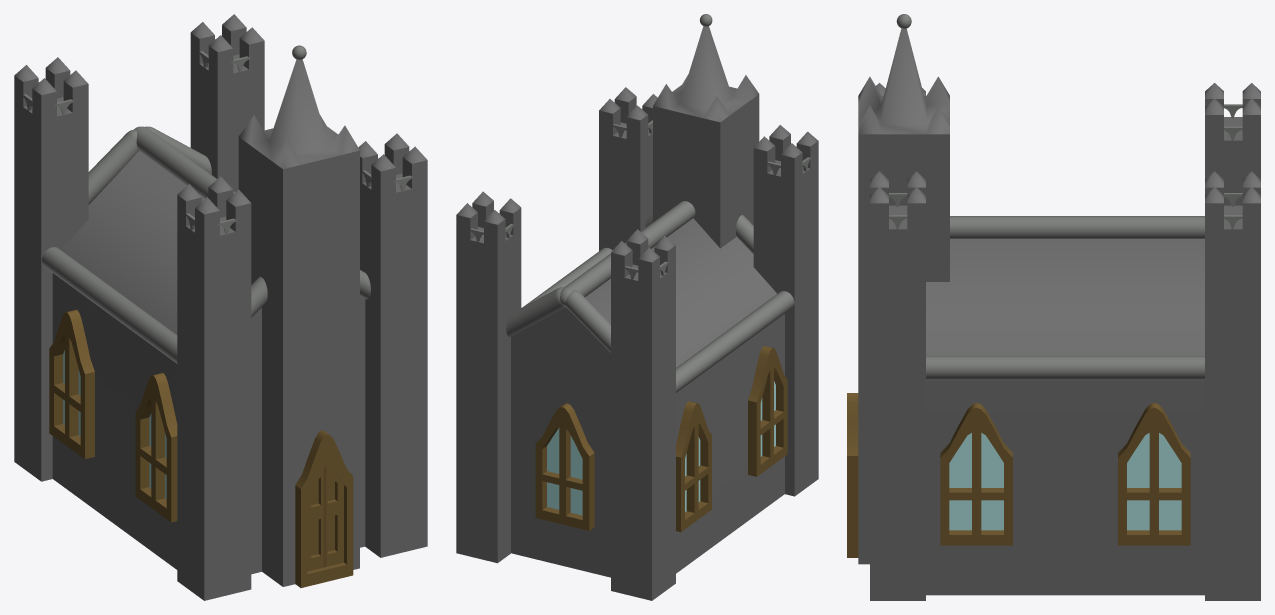
Rendered from Cathedral.fbx.
The picture shows the model from 3 angles, left to right: view 1: azimuth 30°, elevation 25°; view 2: azimuth 150°, elevation 25°; view 3: azimuth 270°, elevation 25°; orthographic projection. The views are drawn at different scales.
Parts seen in each view (by area): view 1: pCube22, pCube1, pCube11, pCube2, pCube16, pCube21, pCube24, pCube27, pCube26, pCylinder6, pCylinder1, pCylinder4 (+1 smaller); view 2: pCube1, pCube16, pCube21, pCube11, pCube22, pCube2, pCube28, pCube26, pCube27, pCylinder6, pCylinder1, pCylinder3 (+2 smaller); view 3: pCube1, pCube21, pCube2, pCube22, pCube23, pCube25, pCylinder7, pCylinder1, pCube16, pCube24.
Part boxes in pixels (left/top/right/bottom): pCube22: left=238, top=59, right=359, bottom=586; pCube1: left=52, top=150, right=365, bottom=574; pCube11: left=177, top=176, right=251, bottom=600; pCube2: left=358, top=133, right=427, bottom=557; pCube16: left=14, top=57, right=88, bottom=481; pCube21: left=190, top=14, right=264, bottom=192; pCube24: left=295, top=430, right=353, bottom=587; pCube27: left=49, top=309, right=94, bottom=459; pCube26: left=135, top=373, right=177, bottom=522; pCylinder6: left=42, top=247, right=177, bottom=363; pCylinder1: left=134, top=126, right=234, bottom=198; pCylinder4: left=88, top=129, right=138, bottom=204; pCube1: left=511, top=218, right=784, bottom=577; pCube16: left=611, top=229, right=675, bottom=600; pCube21: left=456, top=191, right=521, bottom=563; pCube11: left=753, top=125, right=818, bottom=496; pCube22: left=653, top=26, right=759, bottom=248; pCube2: left=599, top=87, right=657, bottom=250; pCube28: left=535, top=403, right=594, bottom=530; pCube26: left=748, top=346, right=787, bottom=476; pCube27: left=676, top=401, right=711, bottom=532; pCylinder6: left=676, top=291, right=794, bottom=392; pCylinder1: left=560, top=201, right=695, bottom=307; pCylinder3: left=506, top=287, right=564, bottom=336; pCube1: left=926, top=238, right=1204, bottom=595; pCube21: left=1205, top=171, right=1260, bottom=600; pCube2: left=870, top=171, right=925, bottom=600; pCube22: left=858, top=28, right=949, bottom=564; pCube23: left=940, top=402, right=1012, bottom=545; pCube25: left=1118, top=402, right=1190, bottom=545; pCylinder7: left=926, top=356, right=1204, bottom=379; pCylinder1: left=950, top=216, right=1204, bottom=238; pCube16: left=1205, top=83, right=1260, bottom=205; pCube24: left=847, top=393, right=858, bottom=557.
Size of the model in its own units: 12.67 by 27.93 by 19.77.
